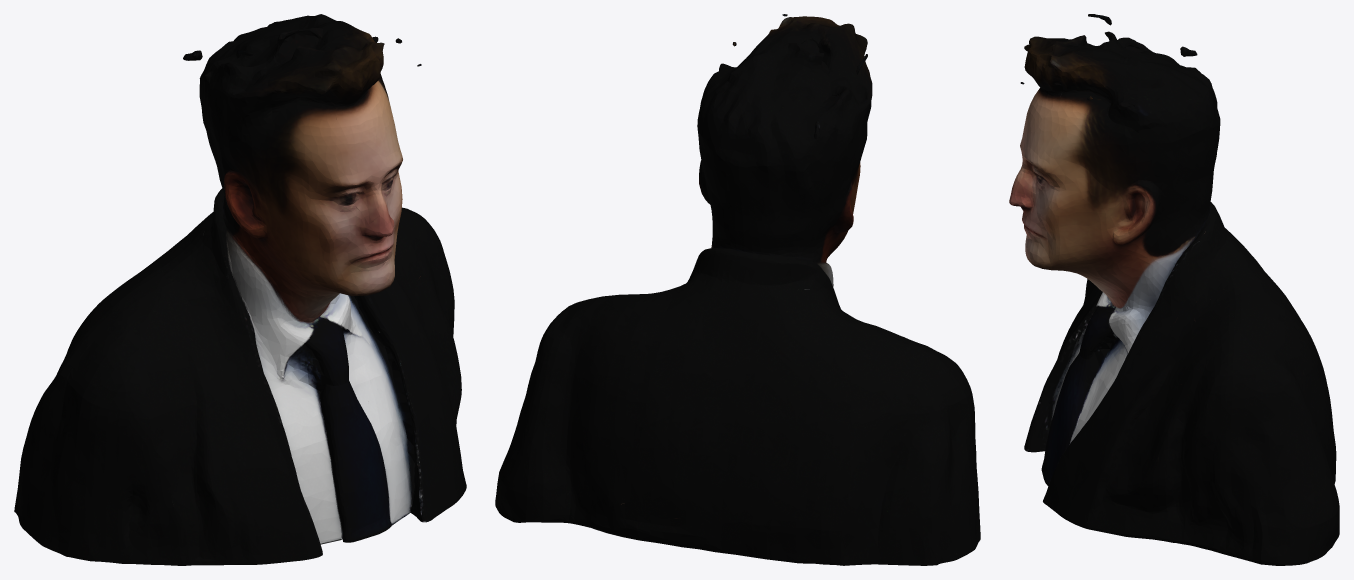
3 renders of one model, left to right at view 1: azimuth 30°, elevation 25°; view 2: azimuth 150°, elevation 25°; view 3: azimuth 270°, elevation 25°, orthographic. The views are drawn at different scales.
Visible parts, largest first — view 1: world; view 2: world; view 3: world.
Part boxes in pixels (x1=…): world: x1=14, y1=14, x2=466, y2=565; world: x1=495, y1=14, x2=980, y2=565; world: x1=1009, y1=14, x2=1339, y2=565.
Size of the model in its own units: 0.9934 by 0.9985 by 0.7005.
Materials: 1 (1 with a texture image).
